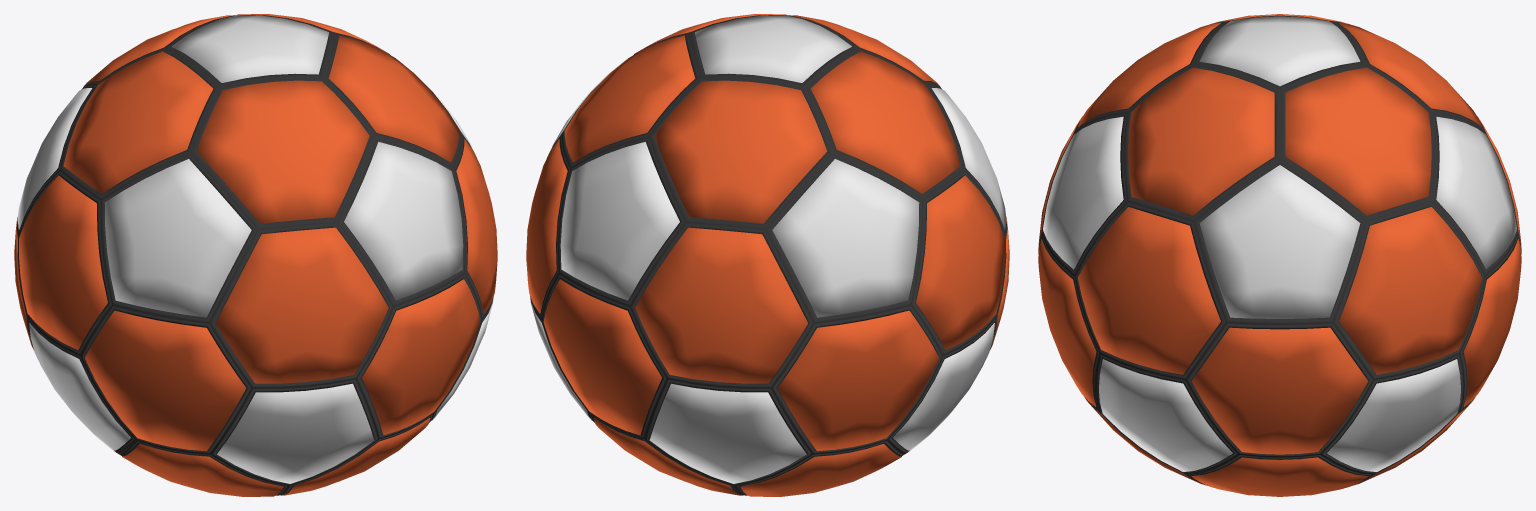
File: Sphere_Foot.fbx
3 renders of one model, left to right at view 1: azimuth 30°, elevation 25°; view 2: azimuth 150°, elevation 25°; view 3: azimuth 270°, elevation 25°, orthographic.
Visible parts, largest first — view 1: Icosphere; view 2: Icosphere; view 3: Icosphere.
Boxes of the visible parts, x1,y1,x2,y2 form: Icosphere: (14,14,497,496); Icosphere: (526,14,1009,496); Icosphere: (1038,14,1521,496).
Bounding box in the file's own units: 100 × 100 × 100.
